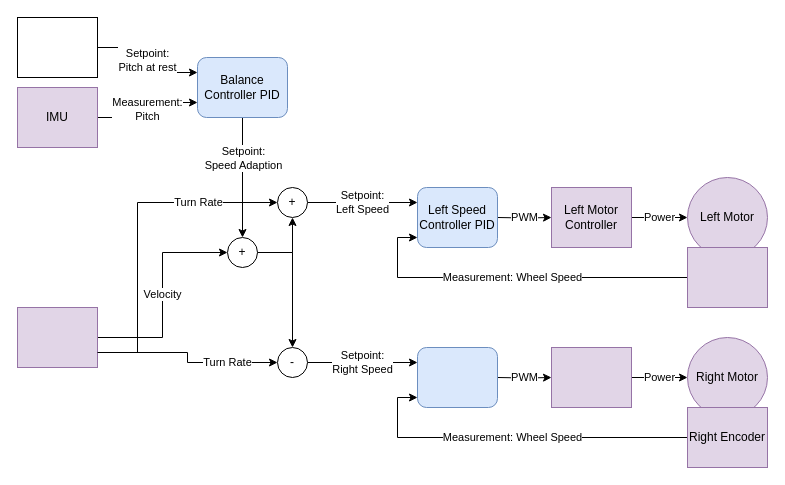
Image size: 785x485. Some labels were removed from this diagram. The centre of each missing label's shape, as x and y in pixels:
"Left Encoder" goes at point (727, 277).
"Pitch at rest (from calibration)" goes at point (57, 47).
"Remote" goes at point (57, 337).
"Right Motor Controller" goes at point (591, 377).
"Right Speed Controller PID" goes at point (457, 377).
